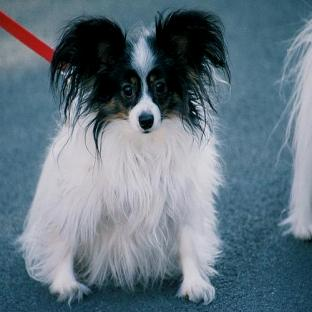Animal: (18, 10, 229, 303)
